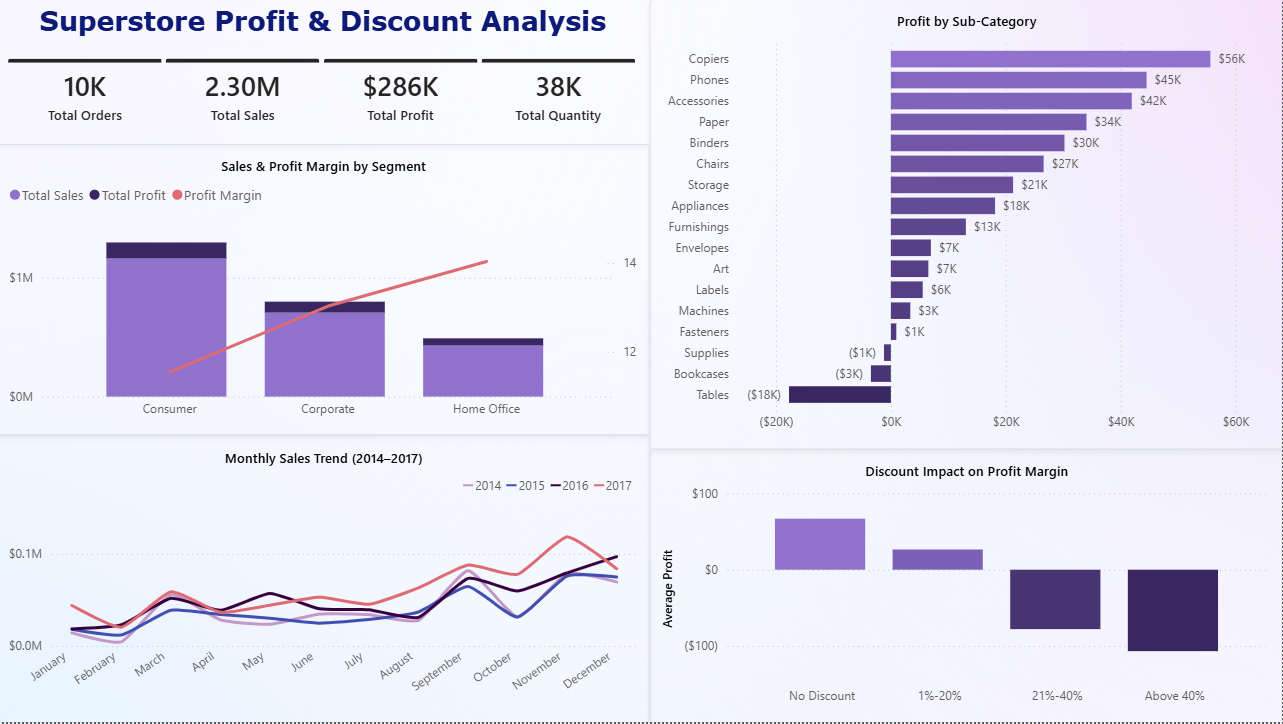

The page's visual inventory and layout, read from the dashboard file:
{"tool":"powerbi","page":{"name":"Page 1","canvas":[1280,720],"ordinal":0},"visuals":[{"type":"barChart","title":"Profit by Sub-Category","fields":{"Y":["Median(query1_profit_by_subcategory csv.Total_Profit)"],"Category":["query1_profit_by_subcategory csv.Sub-Category"]},"box":[650.6,0,629.4,447.8],"z":0},{"type":"lineStackedColumnComboChart","title":"Sales & Profit Margin by Segment","fields":{"Category":["query2_segment_performance csv.Segment"],"Y":["Sum(query2_segment_performance csv.Total_Sales)","Sum(query2_segment_performance csv.Total_Profit)"],"Y2":["Avg(query2_segment_performance csv.Profit_Margin)"]},"box":[0,144.1,650.4,289.5],"z":1000},{"type":"columnChart","title":"Discount Impact on Profit Margin","fields":{"Category":["query3_discount_impact csv.Discount_Band"],"Y":["Median(query3_discount_impact csv.Avg_Profit)"]},"box":[650.6,447.8,629.4,272.4],"z":2000},{"type":"lineChart","title":"Monthly Sales Trend (2014–2017)","fields":{"Category":["Sample_ Superstore.Order Date.Variation.Date Hierarchy.Quarter","Sample_ Superstore.Order Date.Variation.Date Hierarchy.Month","Sample_ Superstore.Order Date.Variation.Date Hierarchy.Day"],"Y":["Sum(Sample_ Superstore.Sales)"],"Series":["Sample_ Superstore.Order Date.Variation.Date Hierarchy.Year"]},"box":[0,434.1,650.6,286.1],"z":3000},{"type":"cardVisual","fields":{"Data":["CountNonNull(Sample_ Superstore.Order ID)","Sum(Sample_ Superstore.Sales)","Sum(Sample_ Superstore.Profit)","Sum(Sample_ Superstore.Quantity)"]},"box":[0,47.3,650.6,97],"z":4000},{"type":"textbox","box":[0,0,650.6,47.3],"z":4001}]}

Visuals, with their boxes in screenshot pixels (x1, y1, x2, y2), scaled from the page's 1280x720 canvas onto the 1283x724 screenshot:
"Profit by Sub-Category" barChart: 652 0 1282 450
"Sales & Profit Margin by Segment" lineStackedColumnComboChart: 0 145 652 436
"Discount Impact on Profit Margin" columnChart: 652 450 1282 723
"Monthly Sales Trend (2014–2017)" lineChart: 0 437 652 723
cardVisual - CountNonNull(Sample_ Superstore.Order ID) x Sum(Sample_ Superstore.Sales): 0 48 652 145
textbox: 0 0 652 48
